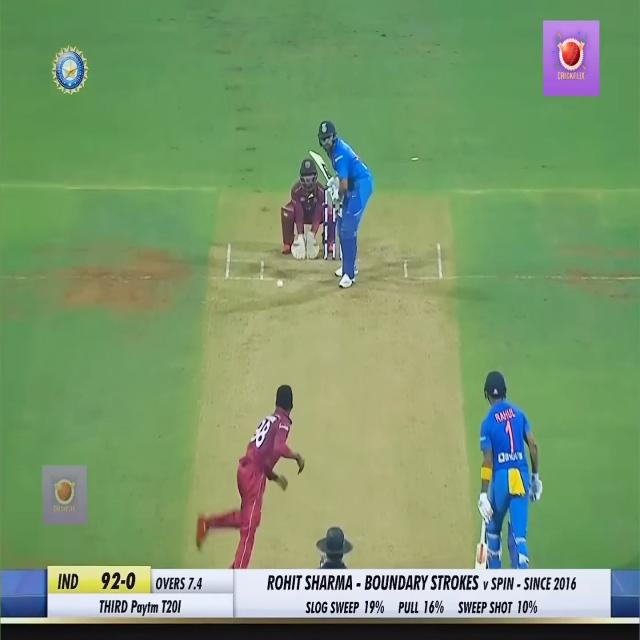fully_visible: (128, 594, 160, 619)
